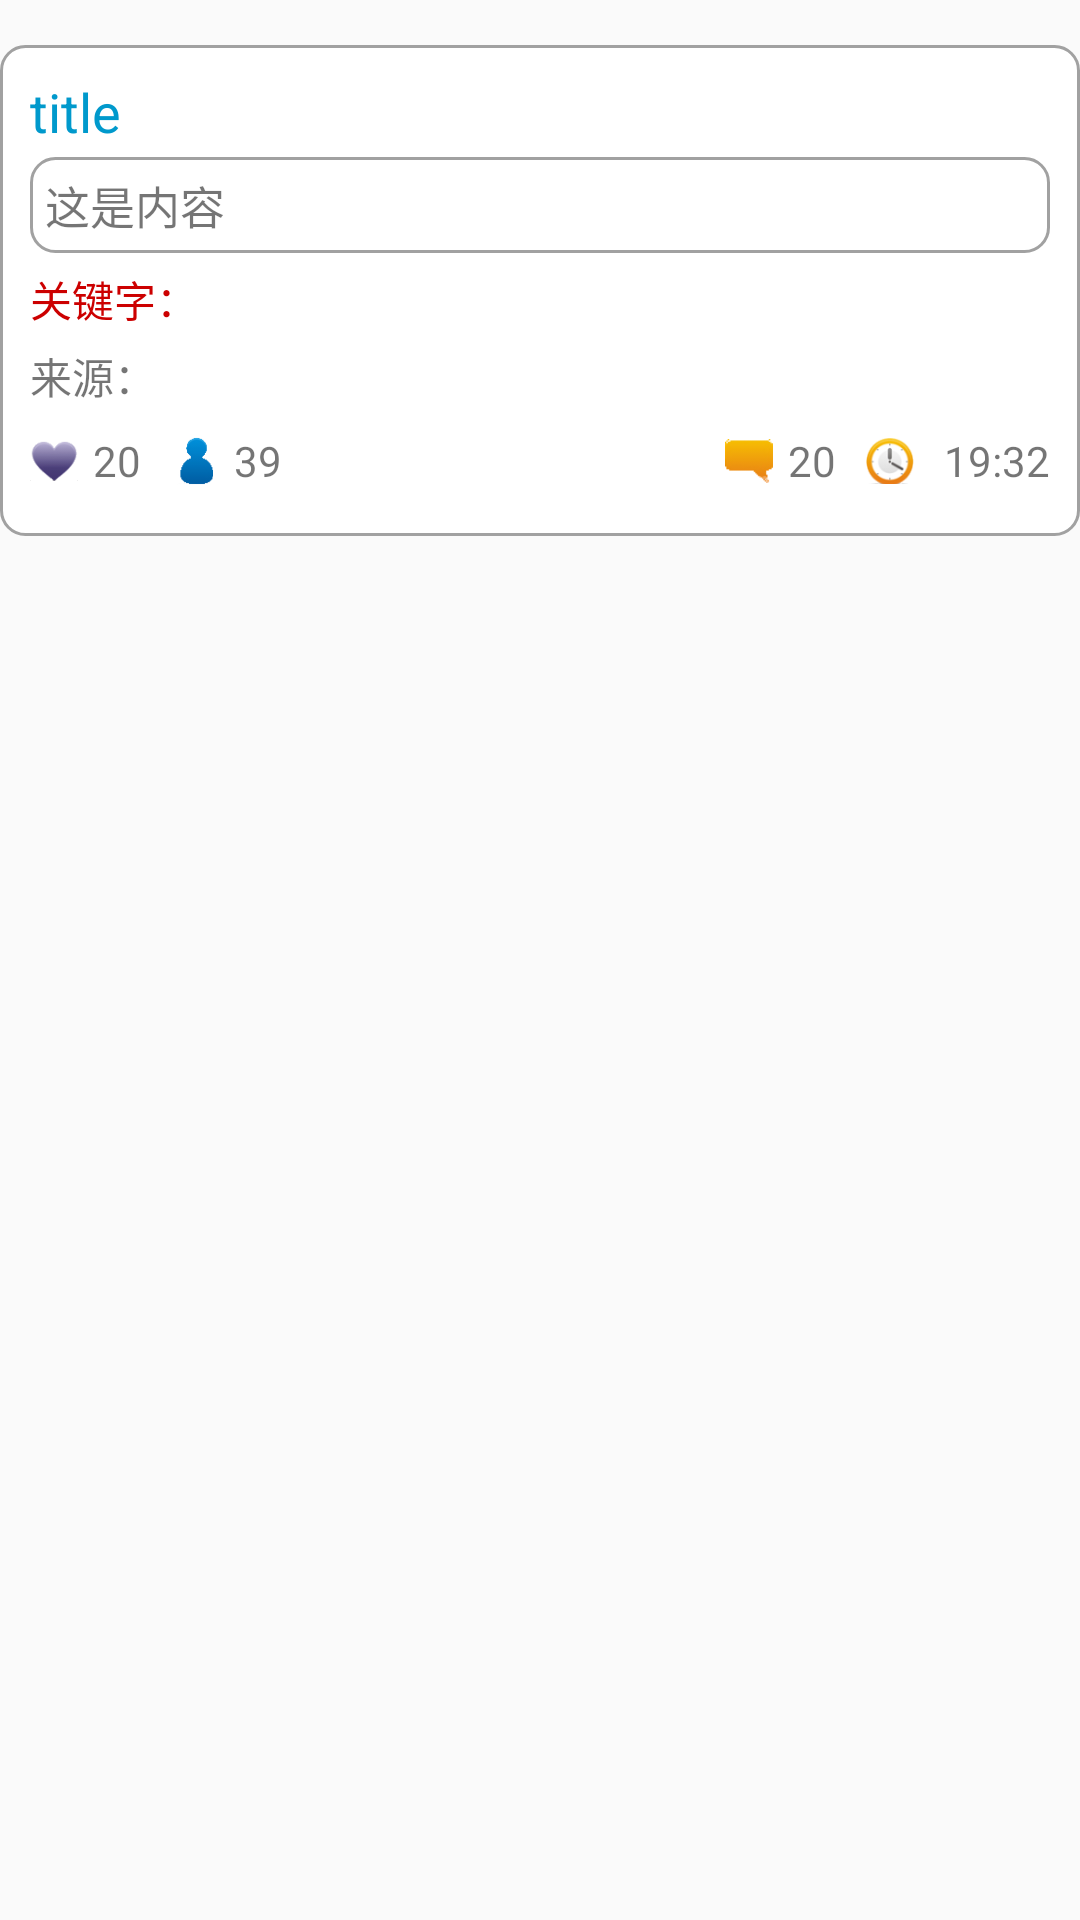

Named icons in this screenshot (1080px×1920px) and their bounding boxes, BBox(x1, y1, x2, y2):
collection: BBox(32, 442, 77, 481)
time: BBox(866, 438, 914, 484)
